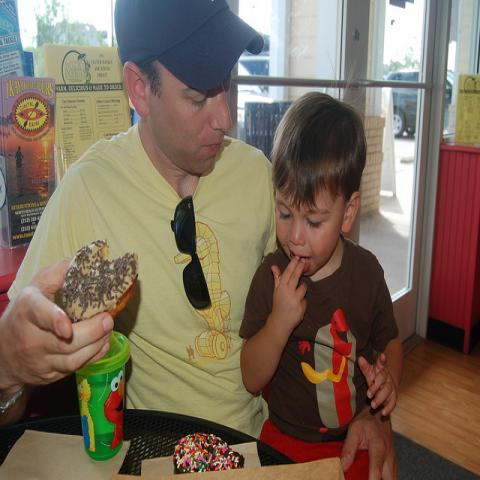car: (384, 68, 456, 138), (236, 60, 270, 144)
